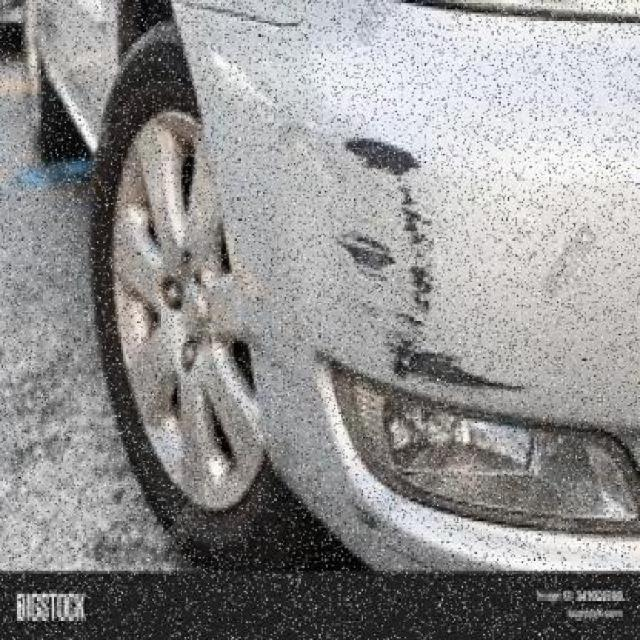front-bumper-dent: (171, 14, 639, 585)
